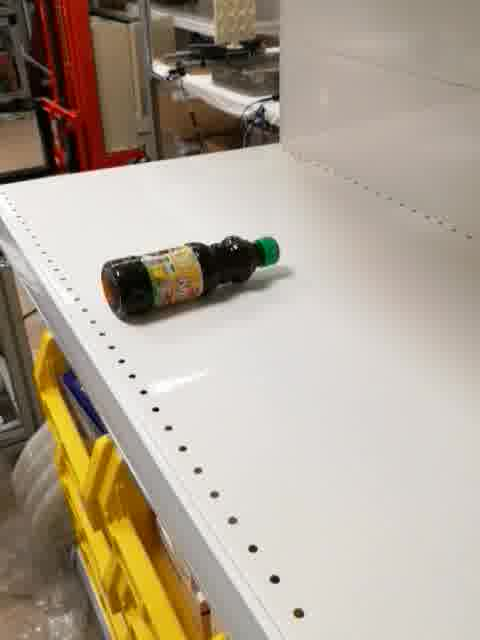cookingoil: (101, 234, 283, 320)
